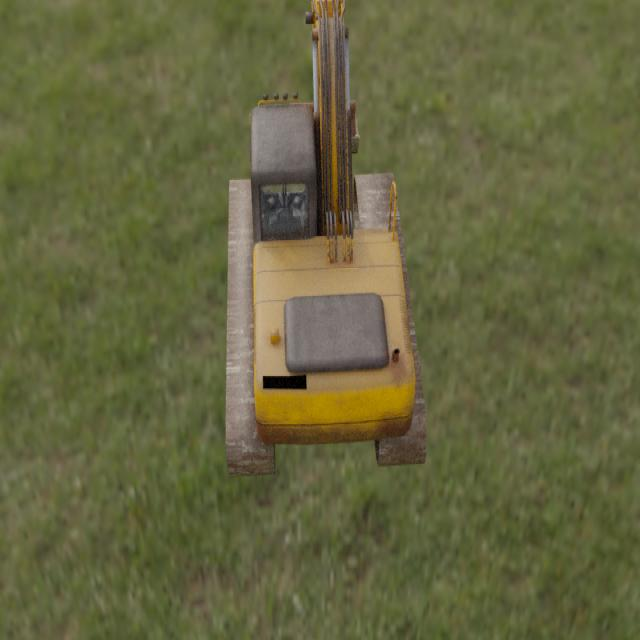excavator: (225, 0, 427, 479)
